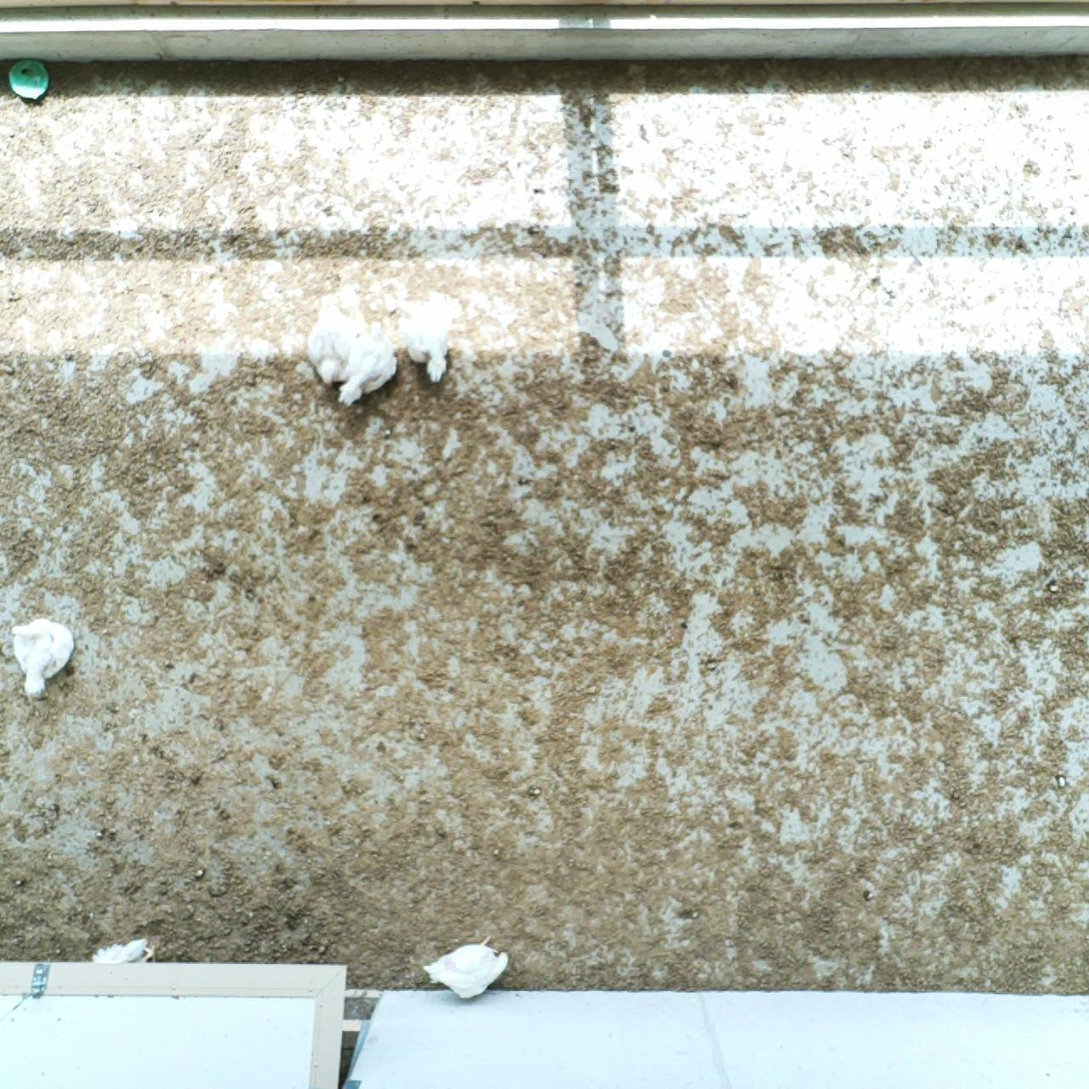chicken: (422, 929, 513, 1001), (333, 318, 400, 412), (392, 295, 461, 385), (299, 294, 362, 392), (7, 616, 78, 700), (89, 935, 154, 965)
